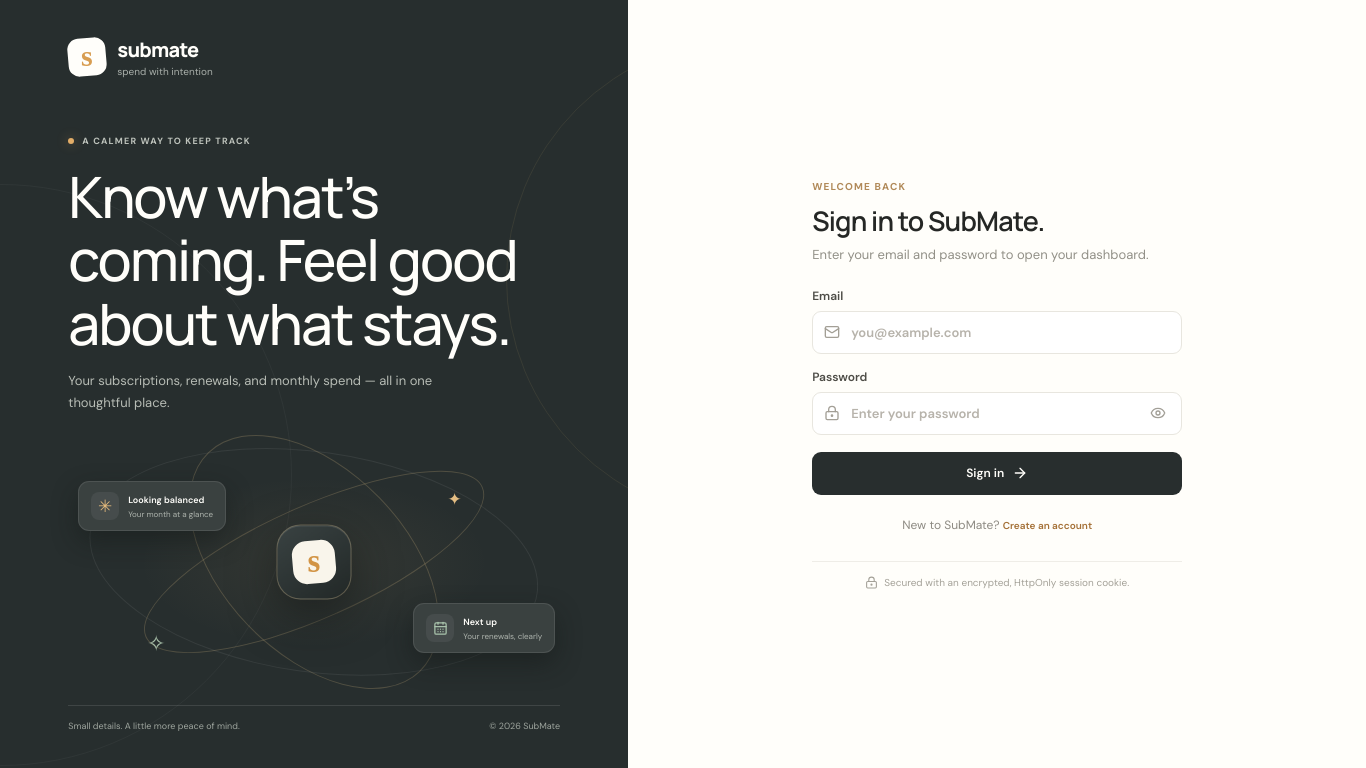
Test: AuthScreen › switches to registration with name and confirmation fields
Click the button "Create an account": click(1047, 525) [1003,518,1092,532]
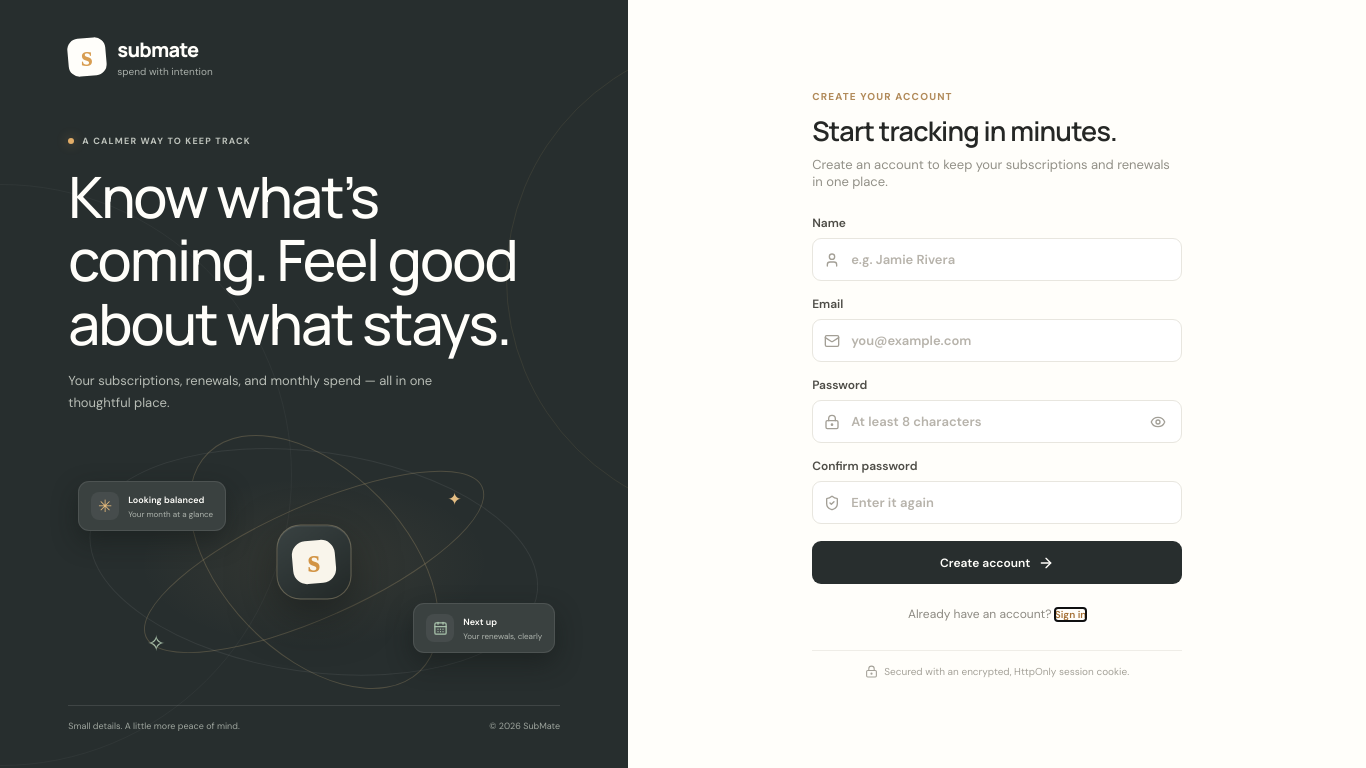
Check: the heading "Start tracking in minutes." is shown, box [812,112,1117,149]
Check: the field labelled "Name" is shown, box [849,250,1170,269]
Check: the password field labelled "Confirm password" is shown, box [849,493,1170,512]
